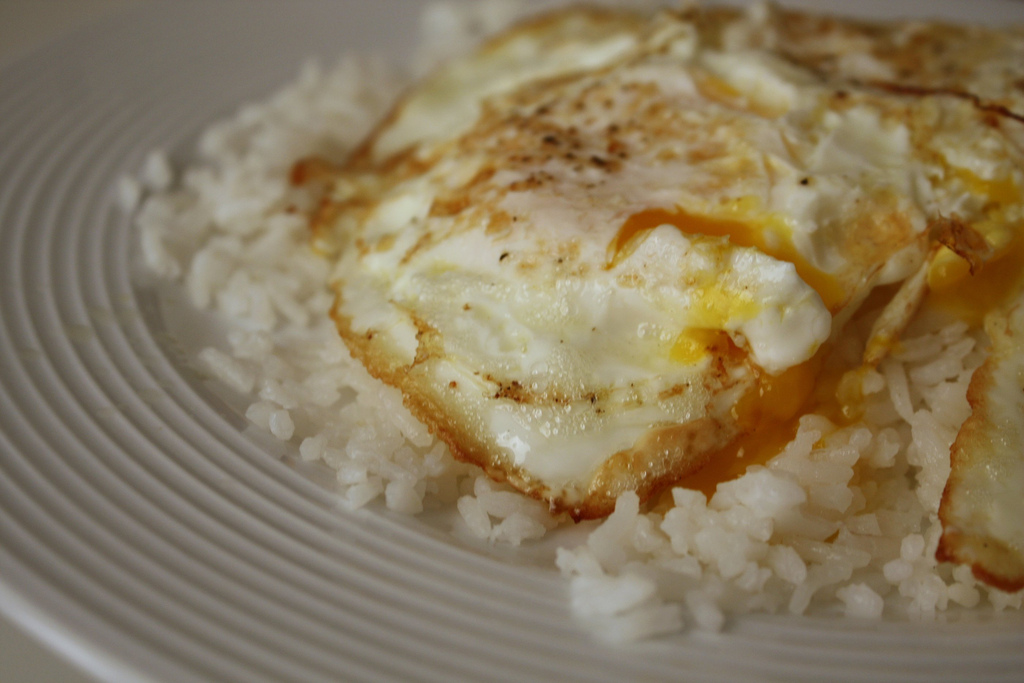fried egg: (343, 24, 1022, 495)
plain rice: (587, 477, 978, 650)
